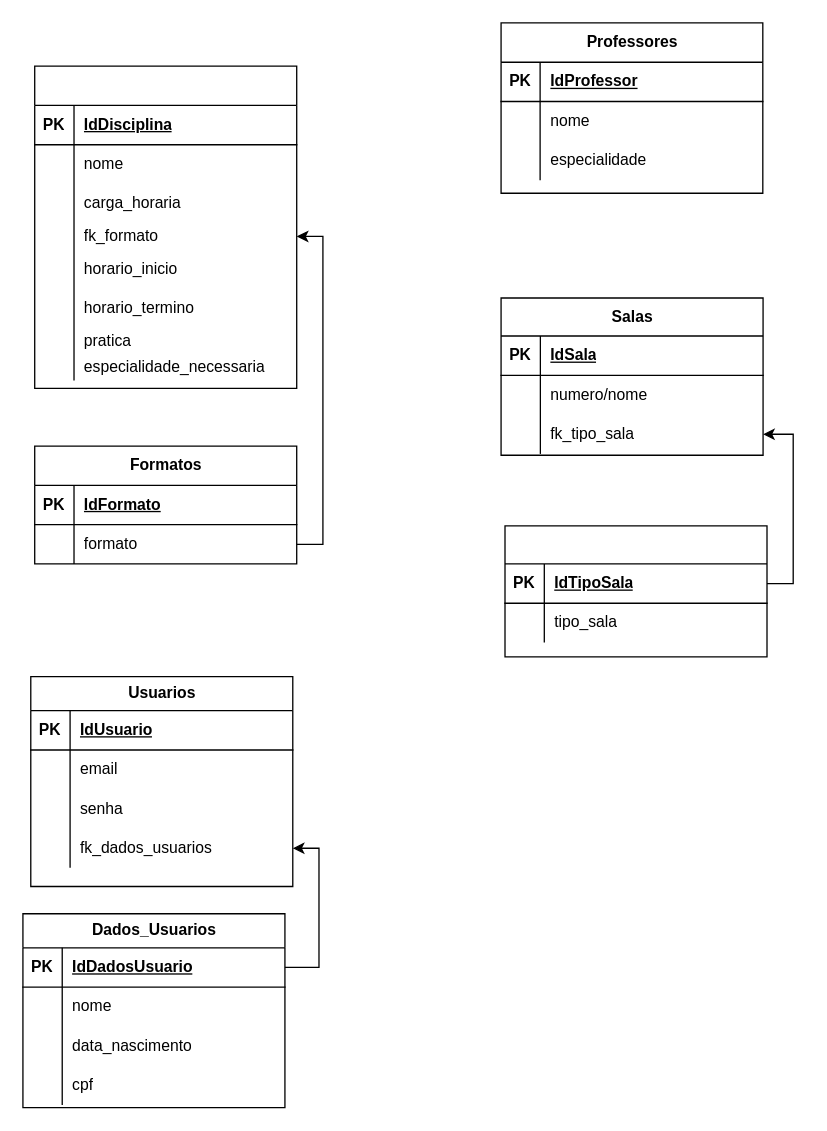
The diagram is 827 pixels wide and 1131 high, and some of its shapes have lost their labels. The shapes that lost their labels are listed below. From the top down, each one's box as (x1, y1, x2, y2) in pixels, then its label:
(33, 65, 297, 388): Disciplinas
(504, 525, 767, 657): Tipos_Salas
